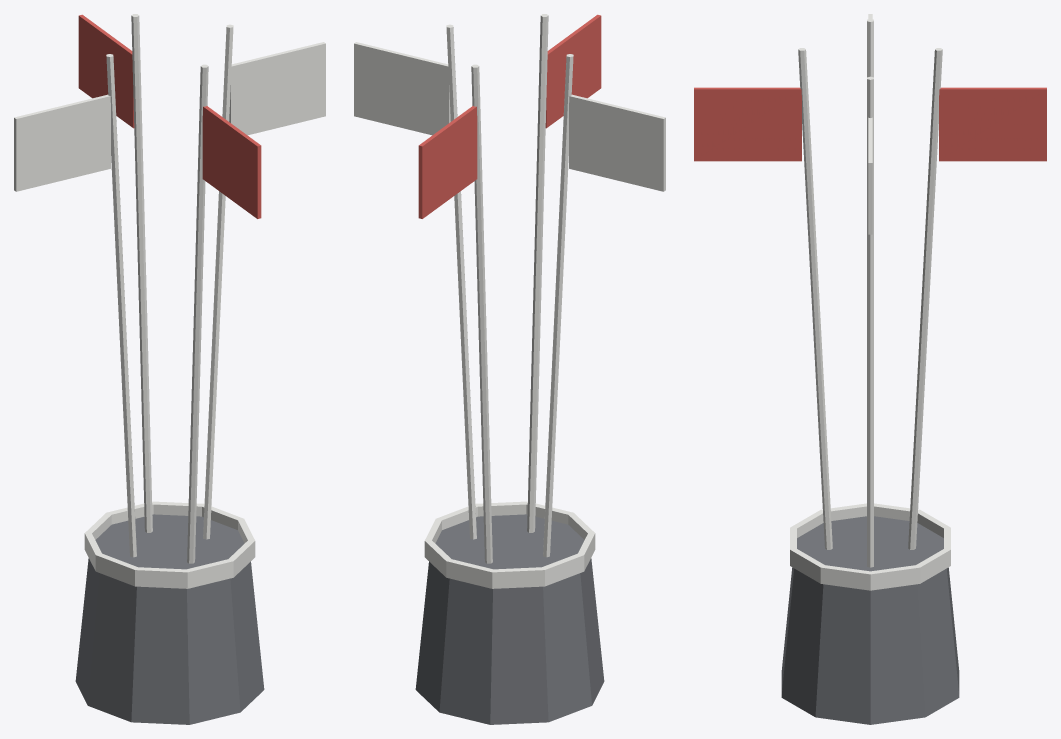
File: golf-course-and-clubhouse-flag-pin-set-8d21e705__33504.glb
3 views of the same model, side by side, from view 1: azimuth 30°, elevation 25°; view 2: azimuth 150°, elevation 25°; view 3: azimuth 270°, elevation 25° (orthographic).
Parts seen in each view (by area): view 1: flag-pin-set; view 2: flag-pin-set; view 3: flag-pin-set.
Boxes of the visible parts, box(x1,y1,x2,y2) form: flag-pin-set: box(14, 14, 325, 724); flag-pin-set: box(354, 14, 665, 724); flag-pin-set: box(694, 14, 1046, 724).
Bounding box in the file's own units: 0.98 × 1.95 × 0.98.
